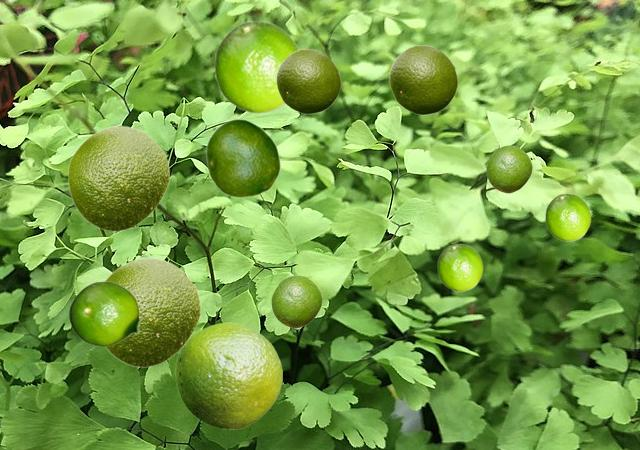calamansi: (175, 322, 281, 428), (67, 125, 169, 231), (104, 257, 200, 367), (214, 20, 301, 112), (205, 118, 280, 197), (68, 281, 147, 346), (389, 44, 457, 114), (276, 48, 340, 113), (271, 275, 321, 327), (486, 145, 531, 192), (545, 193, 590, 240), (437, 243, 482, 290)
